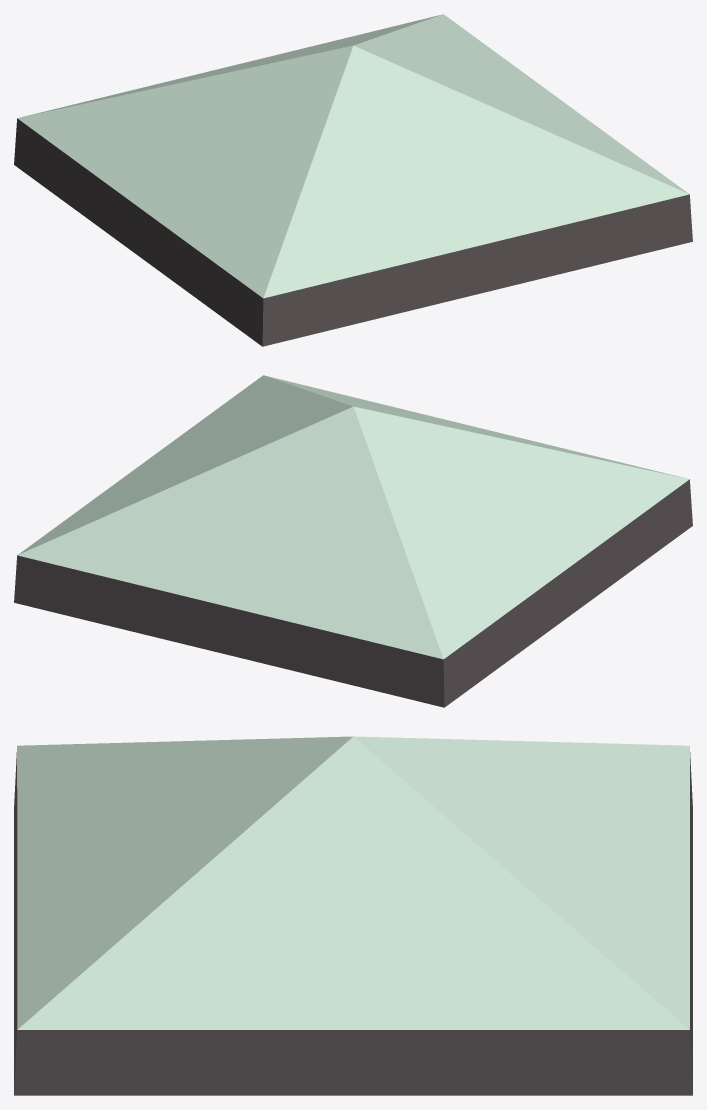
Rendered from roof_2.glb.
3 views of the same model, one above another, from view 1: azimuth 30°, elevation 25°; view 2: azimuth 150°, elevation 25°; view 3: azimuth 270°, elevation 25° (orthographic). The views are drawn at different scales.
Visible parts, largest first — view 1: Roof(1); view 2: Roof(1); view 3: Roof(1).
Part boxes in pixels (x1,y1,x2,y2): Roof(1): [14, 14, 692, 346]; Roof(1): [14, 375, 692, 707]; Roof(1): [14, 736, 692, 1095].
Bounding box in the file's own units: 2.02 × 0.7071 × 2.02.
